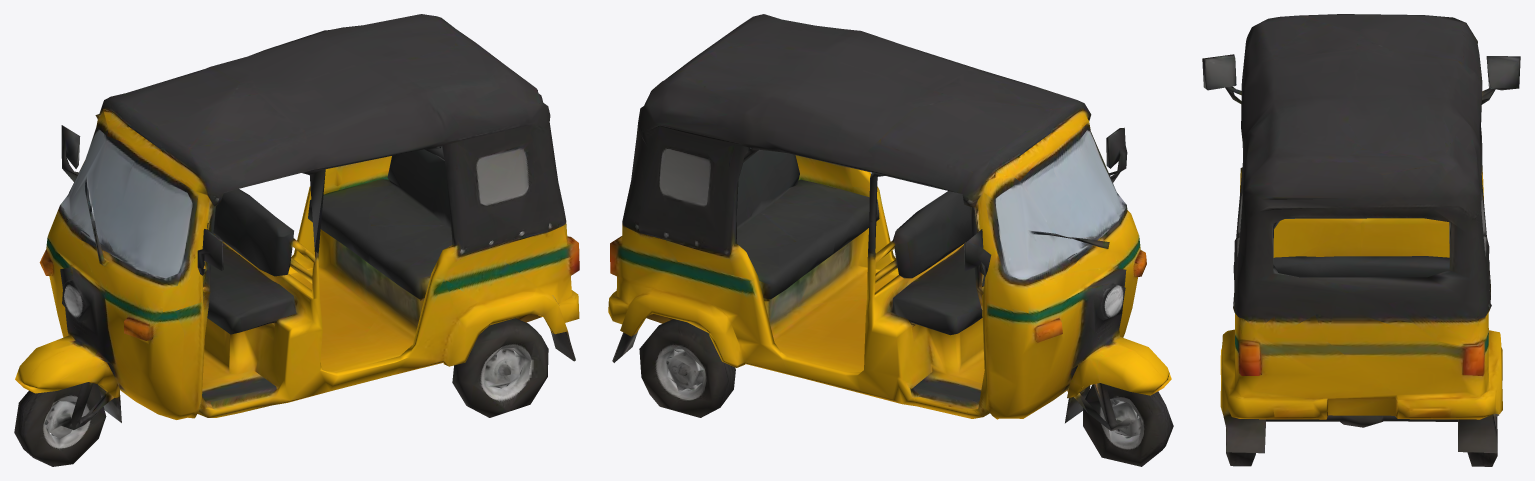
The model's file is keke.glb.
3 views of the same model, side by side, from view 1: azimuth 30°, elevation 25°; view 2: azimuth 150°, elevation 25°; view 3: azimuth 270°, elevation 25° (orthographic).
Parts seen in each view (by area): view 1: tripo_node_a7ffed43-42bb-4ba4-917d-2861f0723ee4; view 2: tripo_node_a7ffed43-42bb-4ba4-917d-2861f0723ee4; view 3: tripo_node_a7ffed43-42bb-4ba4-917d-2861f0723ee4.
Boxes of the visible parts, box(x1,y1,x2,y2) form: tripo_node_a7ffed43-42bb-4ba4-917d-2861f0723ee4: box(14, 14, 579, 466); tripo_node_a7ffed43-42bb-4ba4-917d-2861f0723ee4: box(608, 14, 1173, 466); tripo_node_a7ffed43-42bb-4ba4-917d-2861f0723ee4: box(1202, 14, 1520, 466).
Size of the model in its own units: 1 by 0.6295 by 0.5486.
1 material, 1 textured.
